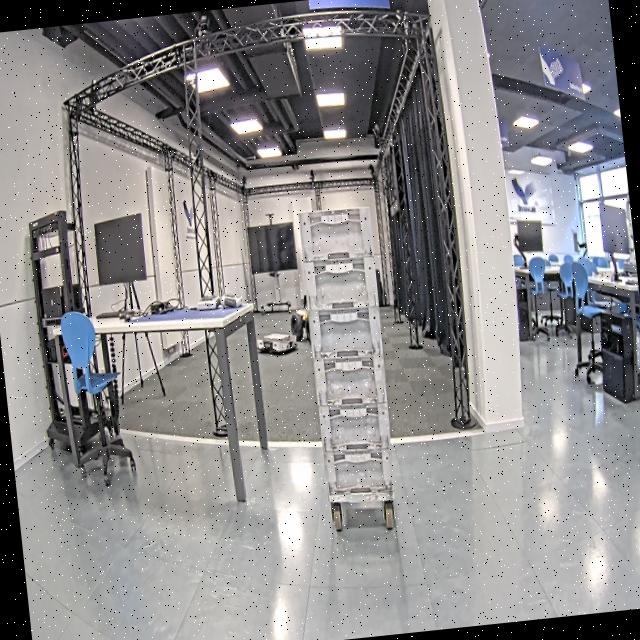Box3G: (297, 203, 376, 264), (302, 254, 380, 312), (312, 351, 388, 408), (307, 303, 384, 359), (322, 443, 396, 499), (318, 402, 392, 454)
